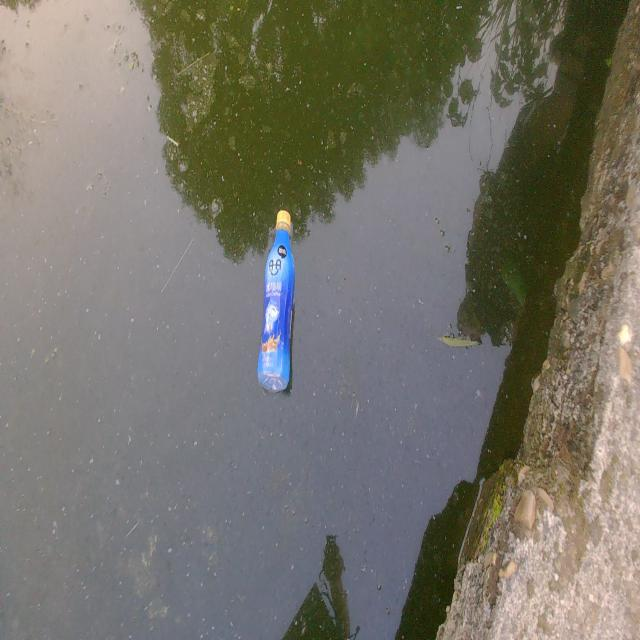Bottle: (255, 203, 297, 396)
